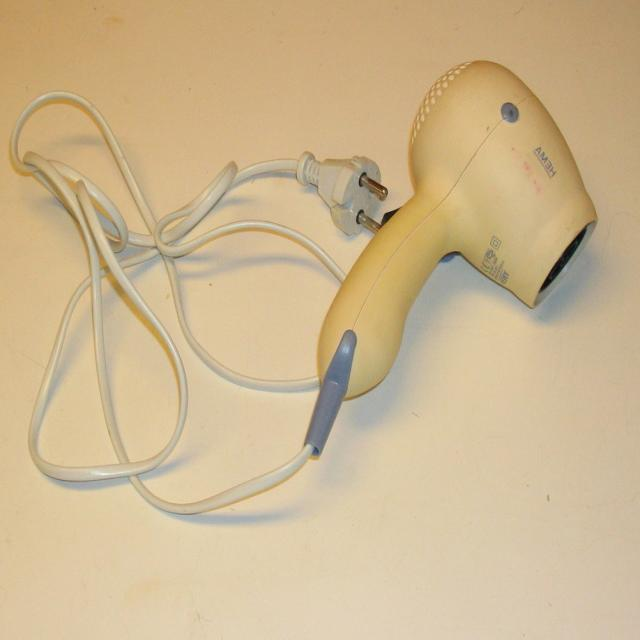dryer: (238, 41, 604, 527)
